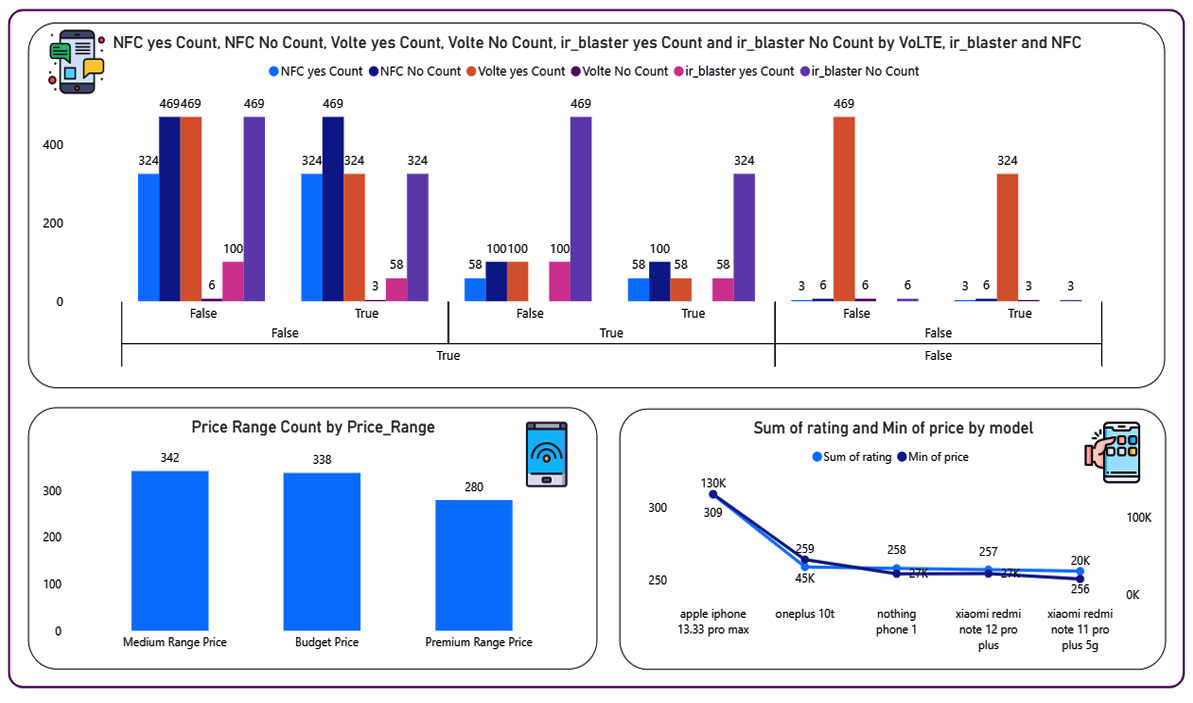

What the dashboard file says about the page in this screenshot:
{"tool":"powerbi","page":{"name":"Dashboard2","canvas":[1280,720],"ordinal":1},"visuals":[{"type":"clusteredColumnChart","fields":{"Category":["Smartphone_data.VoLTE","Smartphone_data.ir_blaster","Smartphone_data.NFC"],"Y":["Smartphone_data.NFC yes Count","Smartphone_data.NFC No Count","Smartphone_data.Volte yes Count","Smartphone_data.Volte No Count","Smartphone_data.ir_blaster yes Count","Smartphone_data.ir_blaster No Count"]},"box":[38.8,24.8,1201.2,372.5],"z":0},{"type":"columnChart","fields":{"Category":["Smartphone_data.Price_Range"],"Y":["Smartphone_data.Price Range Count"]},"box":[38.8,416.9,601.2,267.5],"z":1},{"type":"lineChart","fields":{"Y":["Sum(Smartphone_data.rating)"],"Category":["Smartphone_data.model"],"Y2":["Min(Smartphone_data.price)"]},"box":[663.8,418.1,577.5,266.2],"z":2},{"type":"image","box":[50,24.8,80,80],"z":3},{"type":"image","box":[548.8,426.9,76.2,76.2],"z":4},{"type":"image","box":[1148.8,427.5,72.5,72.5],"z":5},{"type":"shape","box":[17.5,11.2,1243.8,692.5],"z":6}]}

Visuals, with their boxes on the page's 1280x720 design canvas (x1, y1, x2, y2). These are canvas units, not pixel positions in the 1193x703 screenshot, which may show the page scaled, cropped or inside an application window:
clusteredColumnChart - Smartphone_data.VoLTE x Smartphone_data.ir_blaster: region(39, 25, 1240, 397)
columnChart - Smartphone_data.Price_Range x Smartphone_data.Price Range Count: region(39, 417, 640, 684)
lineChart - Sum(Smartphone_data.rating) x Smartphone_data.model: region(664, 418, 1241, 684)
image: region(50, 25, 130, 105)
image: region(549, 427, 625, 503)
image: region(1149, 428, 1221, 500)
shape: region(18, 11, 1261, 704)
